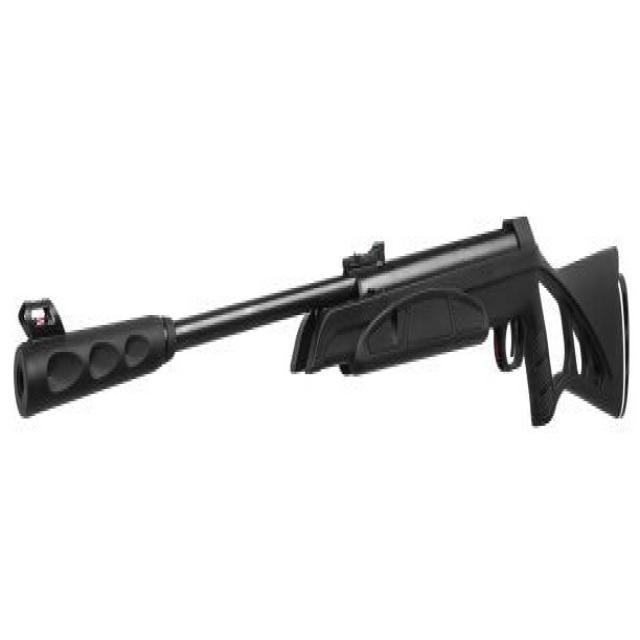rifle: (13, 196, 635, 459)
